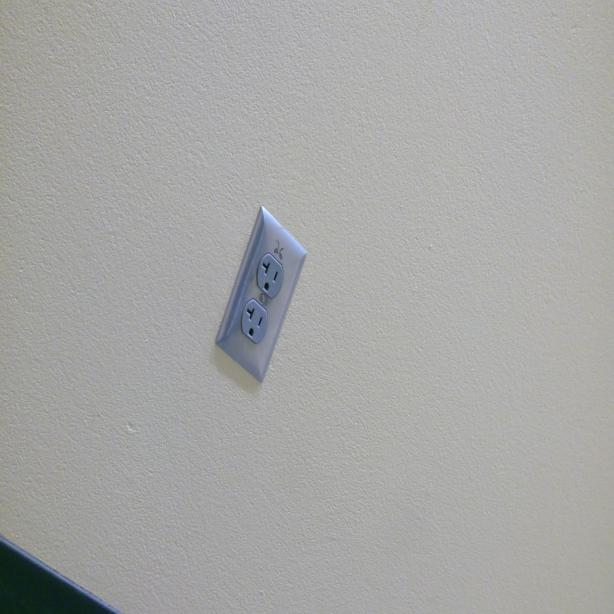typeb: (242, 302, 270, 341), (260, 250, 283, 294)
